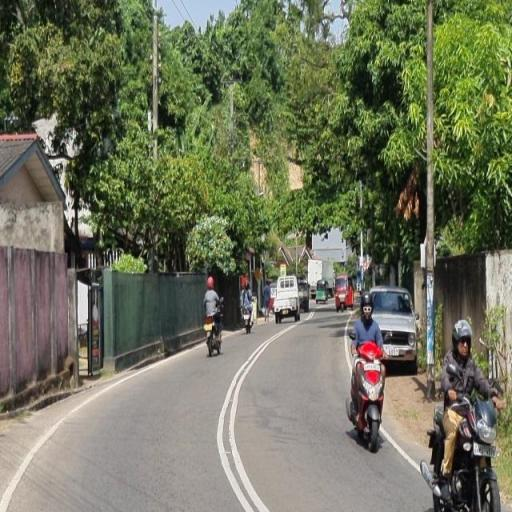double_white_line: (214, 322, 270, 511)
